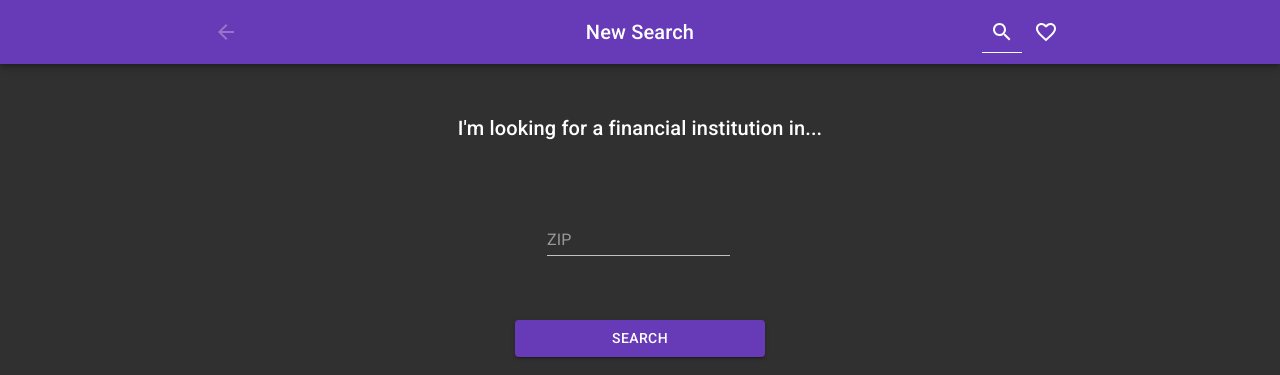
Scenario: Favorites Page › Shows no favorites if none selected
Click the button named "go to my favorites page" at (1046,32), box [1026,12,1066,52]
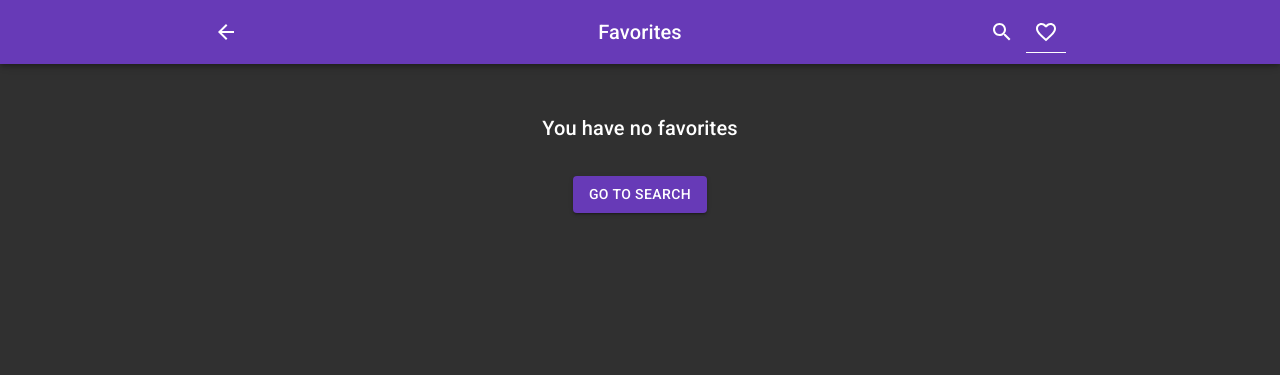
Result: the heading "You have no favorites" is shown at [542,116,738,140]
